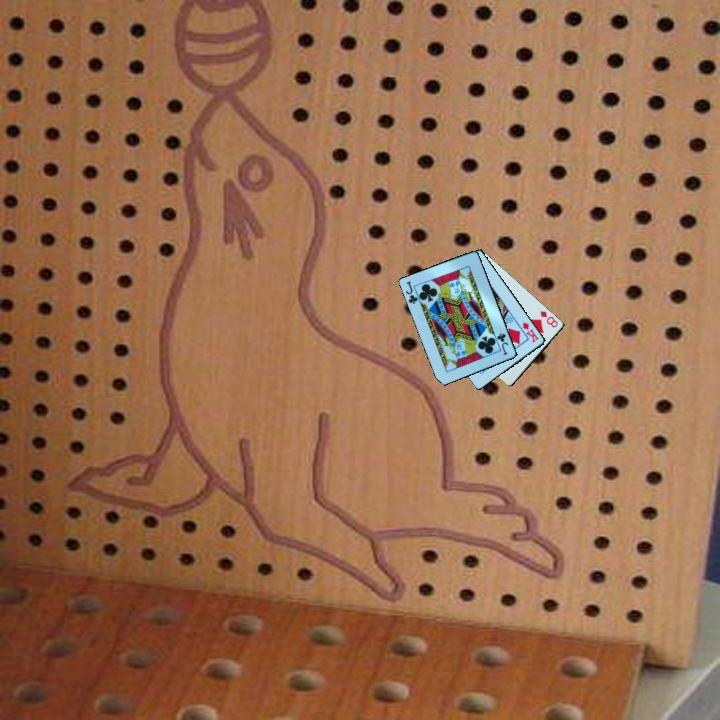8d: (537, 307, 561, 330)
Jc: (403, 278, 421, 307), (494, 330, 511, 358)
Kd: (519, 319, 542, 346)
